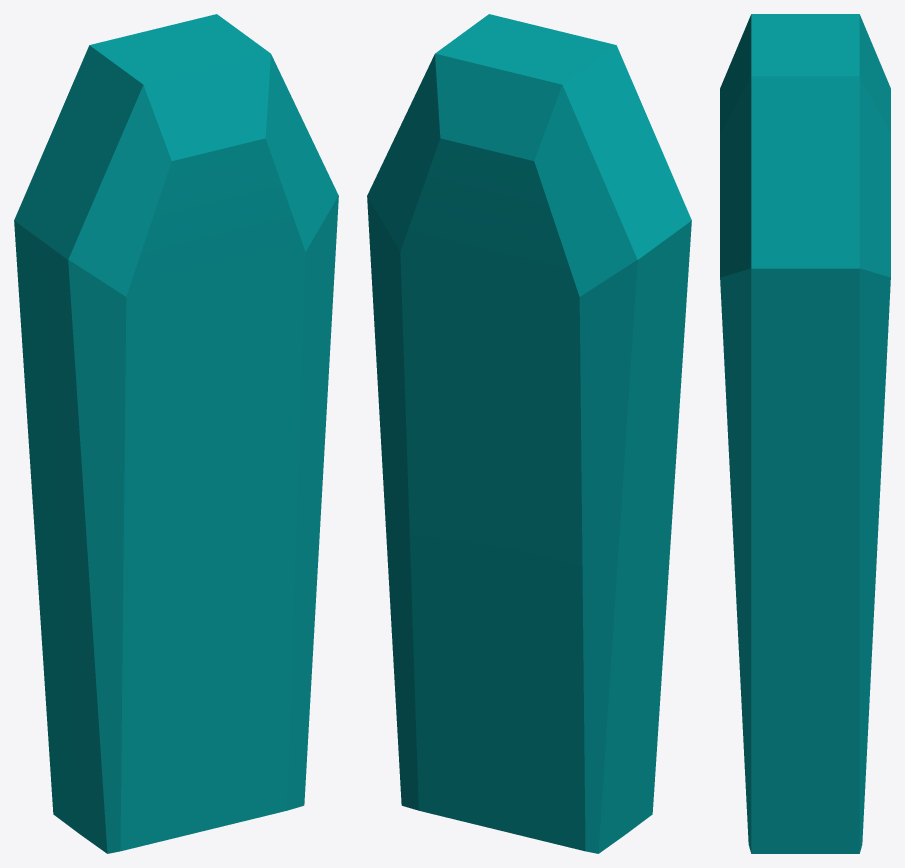
Rendered from Small_Crystal_1_LOD.fbx.
3 renders of one model, left to right at view 1: azimuth 30°, elevation 25°; view 2: azimuth 150°, elevation 25°; view 3: azimuth 270°, elevation 25°, orthographic.
Visible parts, largest first — view 1: pCube9; view 2: pCube9; view 3: pCube9.
Boxes of the visible parts, left/top/right/bottom form: pCube9: left=14, top=14, right=338, bottom=853; pCube9: left=367, top=14, right=691, bottom=853; pCube9: left=720, top=14, right=890, bottom=853.
Size of the model in its own units: 1.78 by 4.78 by 0.9725.
